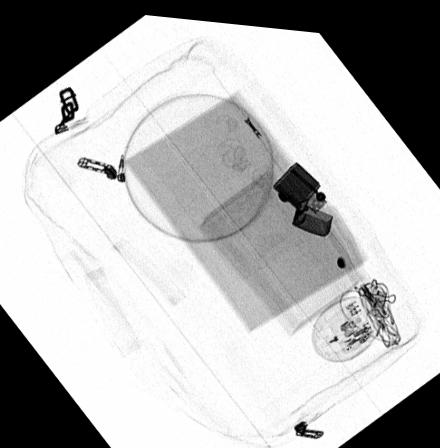Lighter: (270, 156, 334, 231)
